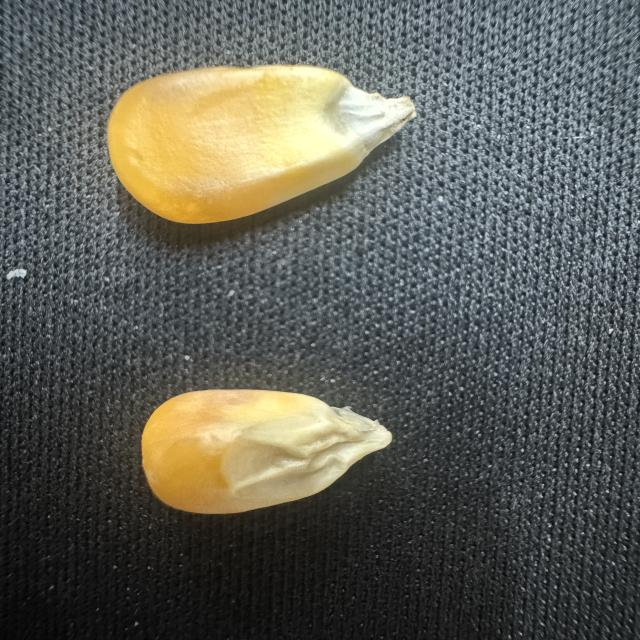Bad-Seed: (132, 378, 419, 520)
Good-Seed: (94, 54, 428, 237)
